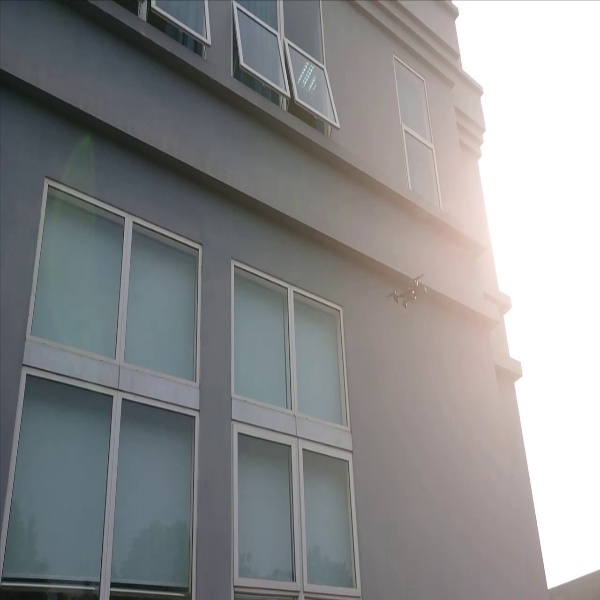drone: (386, 274, 436, 312)
